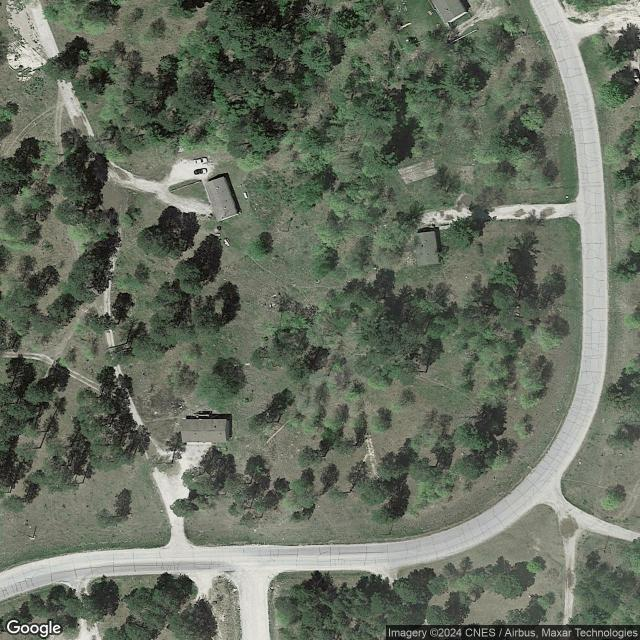Propane: (242, 190, 249, 201)
